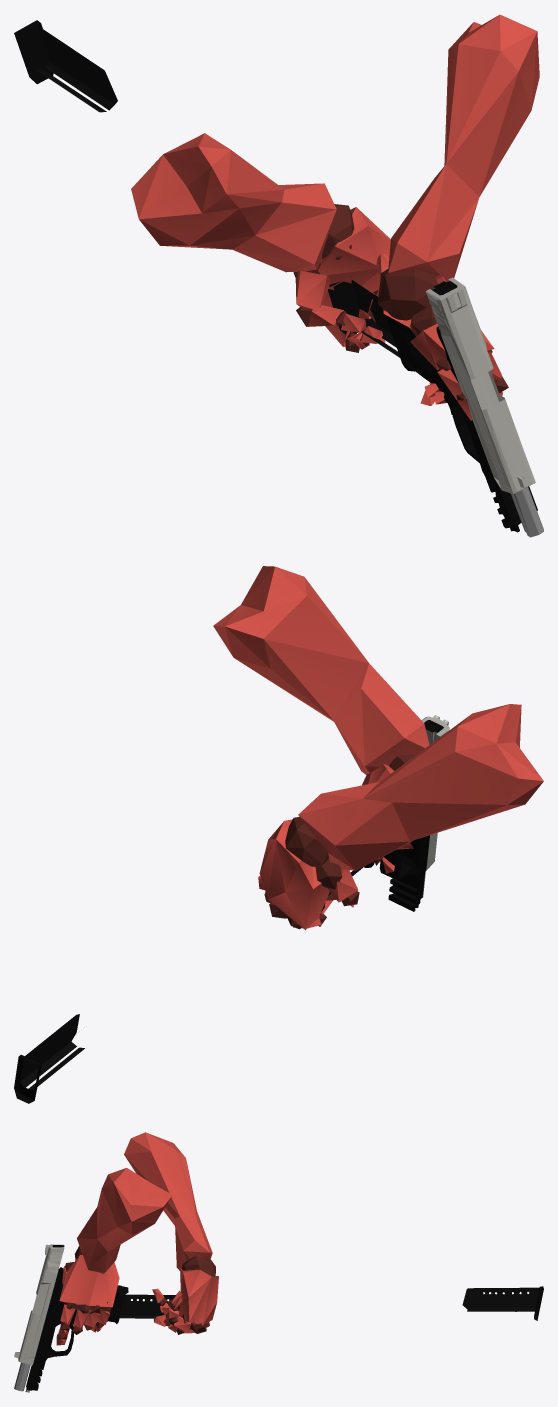
Rendered from M&P9reloadNormal1lowP_000136.obj.
3 views of the same model, one above another, from view 1: azimuth 30°, elevation 25°; view 2: azimuth 150°, elevation 25°; view 3: azimuth 270°, elevation 25° (orthographic). The views are drawn at different scales.
Visible parts, largest first — view 1: Beta_Surface.001_Beta_Surface.002, slide_平面.002, triger_平面.001, Beta_Joints.001_Beta_Joints.002, magazine_平面.003, magazine.002_平面.005; view 2: Beta_Surface.001_Beta_Surface.002, Beta_Joints.001_Beta_Joints.002, magazine_平面.003, triger_平面.001, slide_平面.002; view 3: Beta_Surface.001_Beta_Surface.002, triger_平面.001, slide_平面.002, magazine_平面.003, Beta_Joints.001_Beta_Joints.002, magazine.002_平面.005.
Part boxes in pixels (<box>): Beta_Surface.001_Beta_Surface.002: <box>131,14,539,420</box>; slide_平面.002: <box>425,277,535,493</box>; triger_平面.001: <box>386,316,543,537</box>; Beta_Joints.001_Beta_Joints.002: <box>293,204,508,400</box>; magazine_平面.003: <box>14,20,117,112</box>; magazine.002_平面.005: <box>328,279,399,357</box>; Beta_Surface.001_Beta_Surface.002: <box>213,566,543,929</box>; Beta_Joints.001_Beta_Joints.002: <box>262,754,416,929</box>; magazine_平面.003: <box>14,1014,84,1103</box>; triger_平面.001: <box>364,835,429,911</box>; slide_平面.002: <box>421,715,449,871</box>; Beta_Surface.001_Beta_Surface.002: <box>56,1132,218,1345</box>; triger_平面.001: <box>14,1267,128,1392</box>; slide_平面.002: <box>14,1244,64,1365</box>; magazine_平面.003: <box>462,1286,543,1320</box>; Beta_Joints.001_Beta_Joints.002: <box>57,1246,215,1340</box>; magazine.002_平面.005: <box>119,1294,179,1318</box>.
Bounding box in the file's own units: 63.31 × 69.94 × 139.
